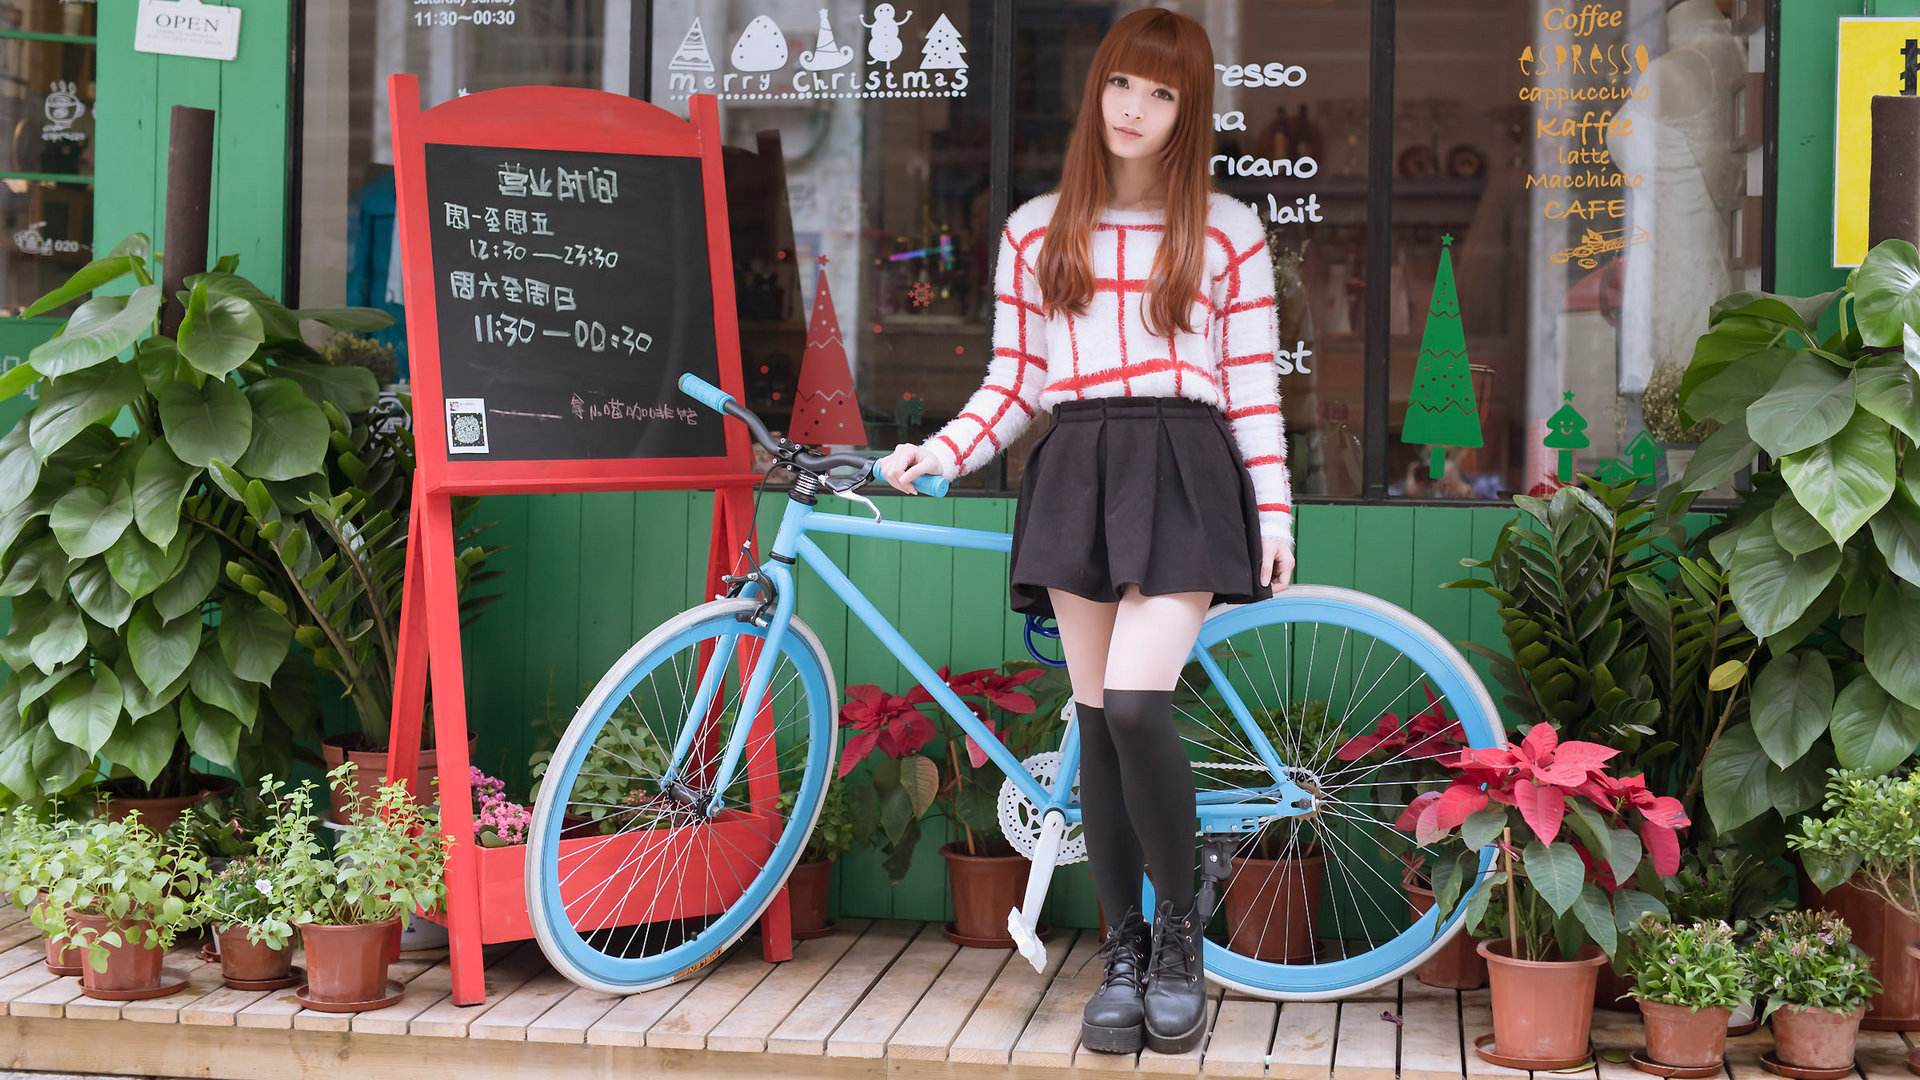person: (973, 10, 1277, 317)
